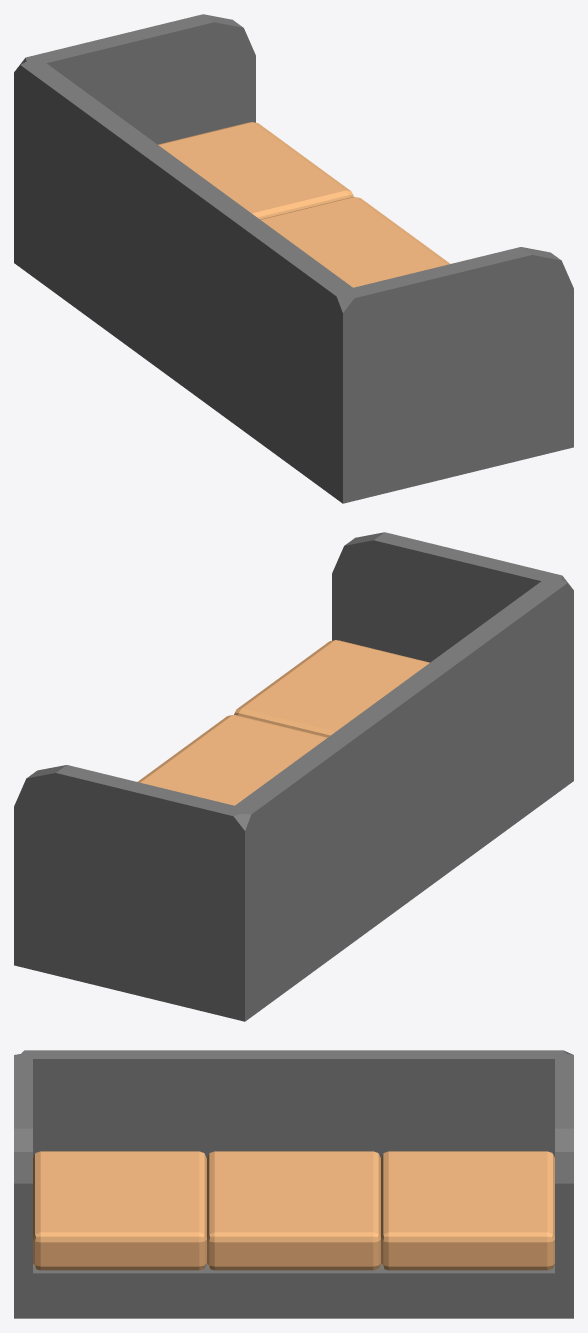
Rendered from Sofa_11.fbx.
3 views of the same model, one above another, from view 1: azimuth 30°, elevation 25°; view 2: azimuth 150°, elevation 25°; view 3: azimuth 270°, elevation 25° (orthographic). The views are drawn at different scales.
Visible parts, largest first — view 1: Sofa_11; view 2: Sofa_11; view 3: Sofa_11.
Part boxes in pixels (<box>): Sofa_11: <box>14,14,573,503</box>; Sofa_11: <box>14,532,573,1021</box>; Sofa_11: <box>14,1050,573,1318</box>.
Size of the model in its own units: 0.829 by 0.6948 by 2.04.
